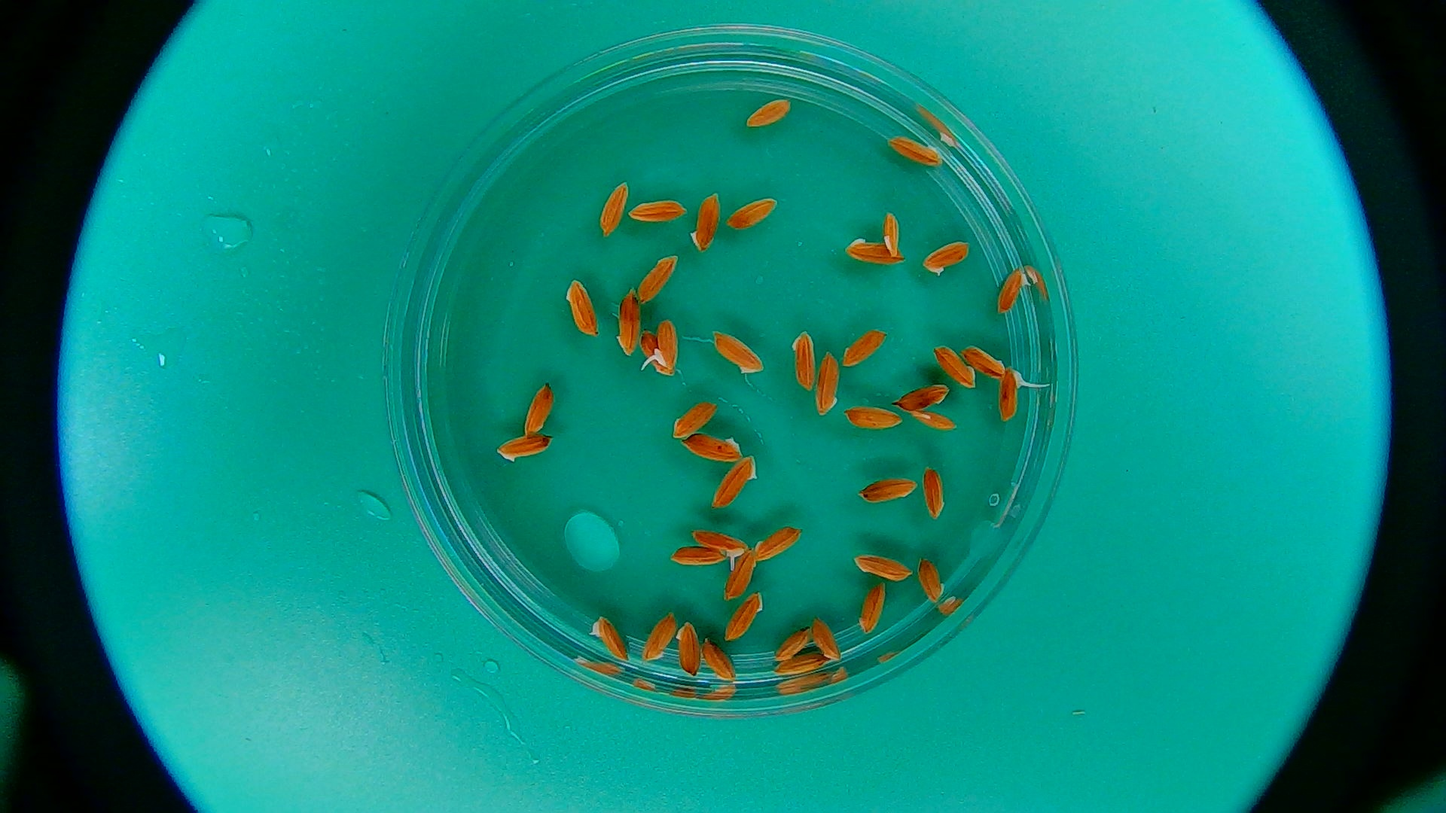no: (707, 452, 757, 510), (711, 327, 766, 376), (561, 277, 599, 340), (992, 262, 1038, 314), (721, 589, 763, 645), (929, 342, 976, 390), (613, 285, 643, 357), (687, 193, 719, 259), (670, 399, 718, 443), (636, 252, 676, 304), (493, 431, 558, 463), (676, 433, 746, 462), (722, 549, 759, 603), (593, 180, 628, 237), (590, 612, 629, 663), (844, 401, 904, 434), (856, 473, 916, 506), (846, 234, 904, 268), (889, 384, 952, 415), (899, 407, 962, 438), (923, 239, 973, 278), (754, 524, 806, 561), (639, 612, 676, 664), (854, 553, 914, 585), (699, 633, 737, 683), (843, 327, 886, 370), (742, 95, 793, 130), (725, 196, 779, 229), (887, 132, 941, 165), (664, 544, 725, 573), (770, 622, 813, 663), (790, 326, 816, 392), (629, 194, 686, 224), (523, 381, 552, 439), (962, 345, 1007, 382), (773, 647, 828, 677), (857, 574, 884, 635), (812, 617, 843, 669), (638, 327, 673, 373), (814, 352, 837, 417), (913, 556, 944, 604), (675, 620, 700, 678), (921, 467, 945, 521), (881, 212, 902, 260)
yes: (691, 527, 749, 559), (999, 361, 1025, 419), (655, 314, 679, 373)
